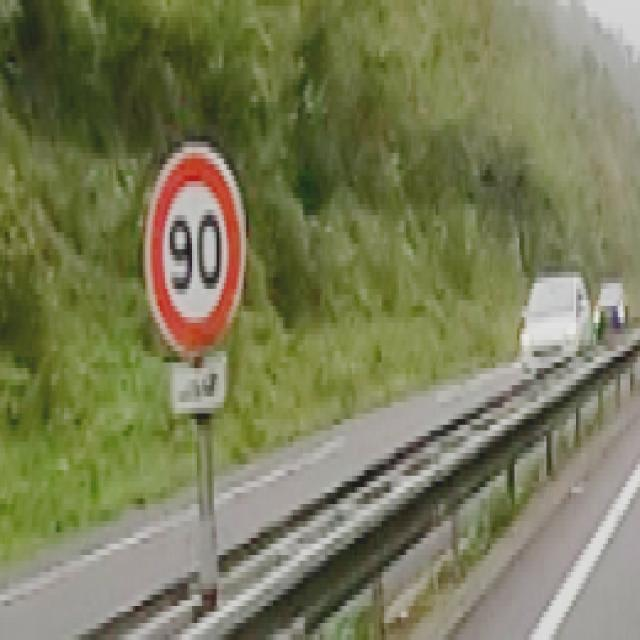speed_90: (144, 140, 248, 361)
